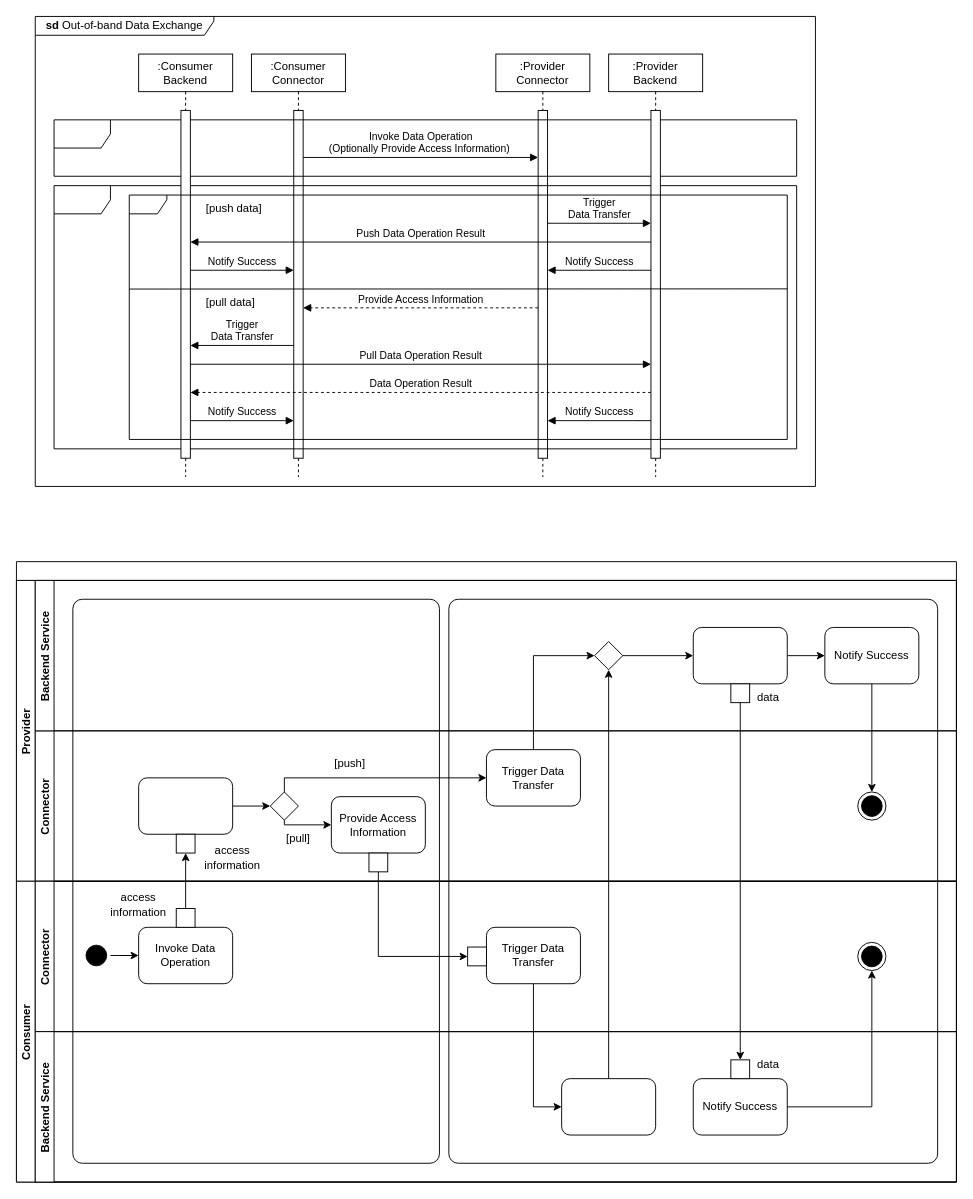
Image size: 973x1199. Some labels were removed from this diagram. The box of each missing label's shape, as (x1, y1, x2, y2) in pixels:
alt: (128, 194, 787, 439)
Control Phase: (53, 119, 797, 176)
ControlPhase: (72, 598, 439, 1163)
Out-of-band Data Exchange: (16, 561, 956, 1182)
Process Data Operation: (138, 777, 233, 834)
Provide Data Operation Result: (692, 627, 787, 684)
Request Data Operation Result: (561, 1078, 656, 1135)
Transfer Phase: (53, 185, 797, 449)
TransferPhase: (448, 598, 938, 1163)
